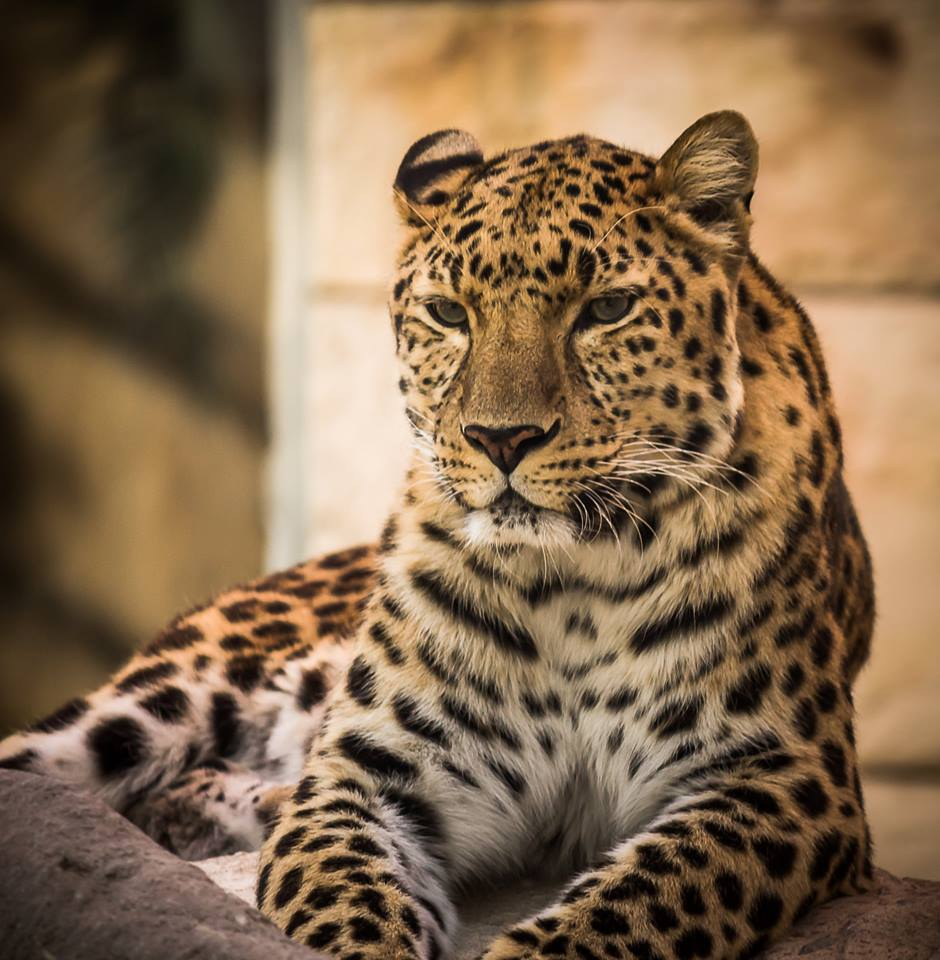amur_leopard: (89, 77, 888, 956)
